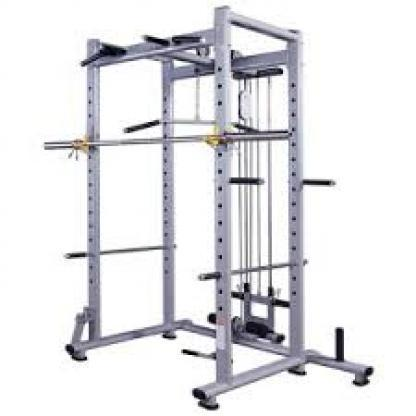smith machine: (46, 5, 374, 410)
